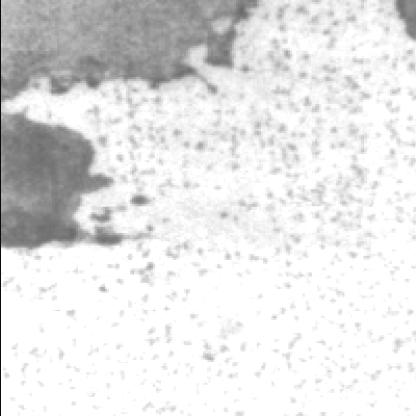patches: (4, 2, 262, 108), (2, 112, 131, 262)
pitted_surface: (106, 79, 416, 416)
